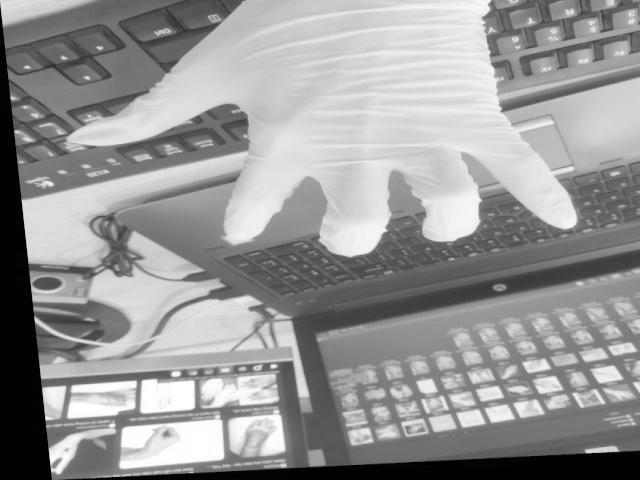gloved: (71, 0, 579, 258)
